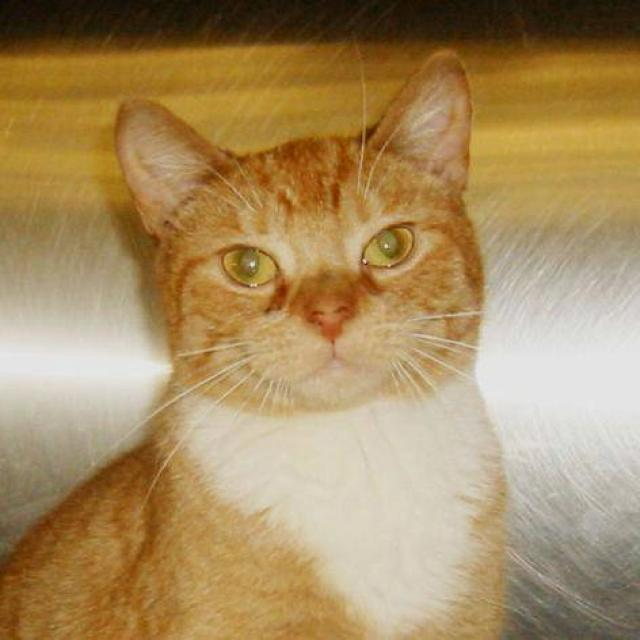Kucing: (0, 26, 540, 640)
